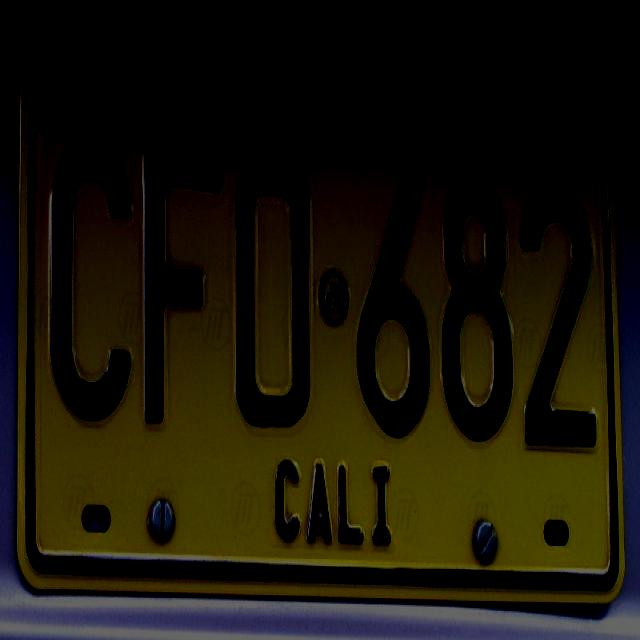placa: (11, 23, 634, 613)
